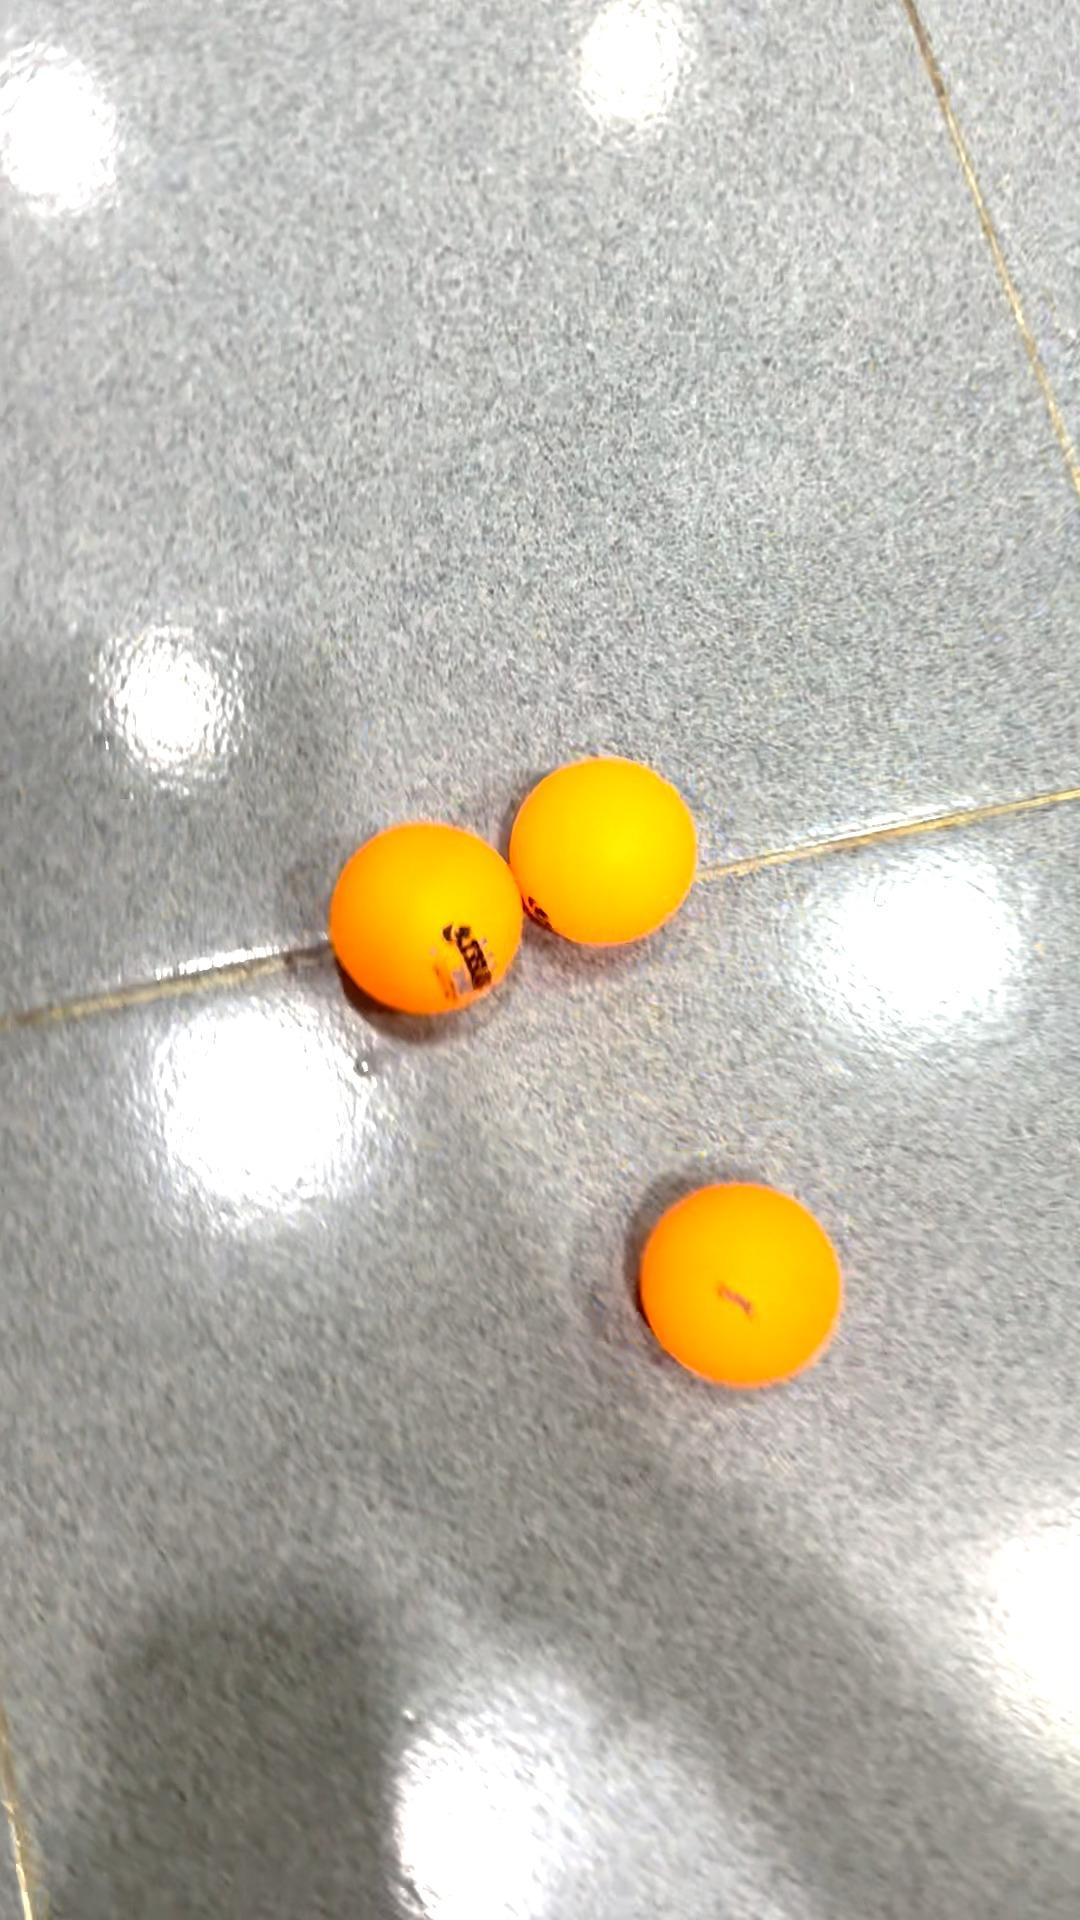oball: (634, 1162, 860, 1415), (318, 804, 530, 1033), (518, 752, 704, 967)
